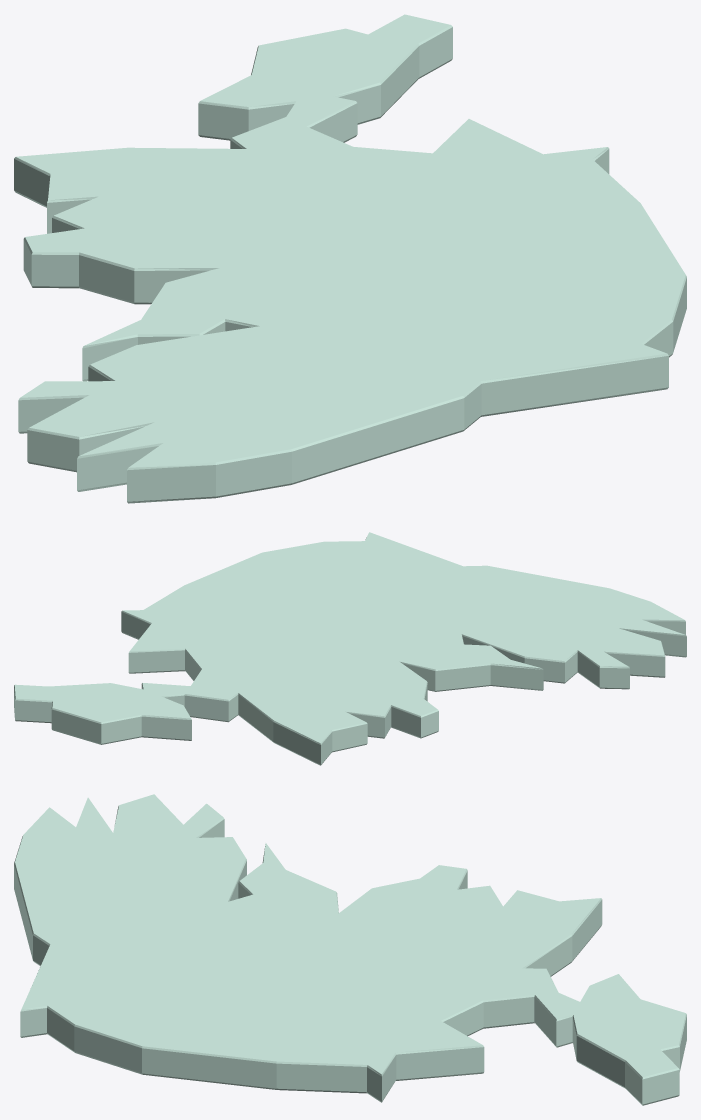
The model's file is IRL.glb.
3 renders of one model, top to bottom at view 1: azimuth 30°, elevation 25°; view 2: azimuth 150°, elevation 25°; view 3: azimuth 270°, elevation 25°, orthographic. The views are drawn at different scales.
Bounding box in the file's own units: 1.45 × 0.068 × 1.45.
